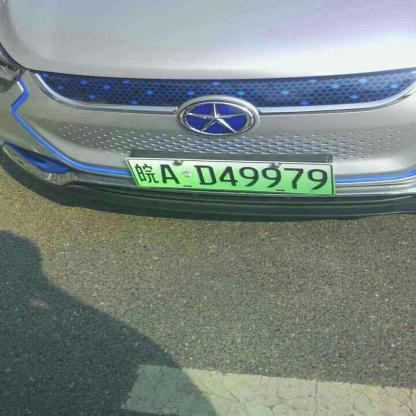lp: (128, 159, 332, 193)
